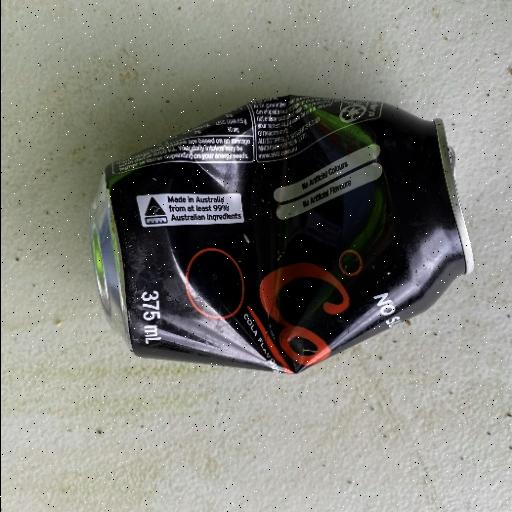Metal: (88, 92, 474, 376)
